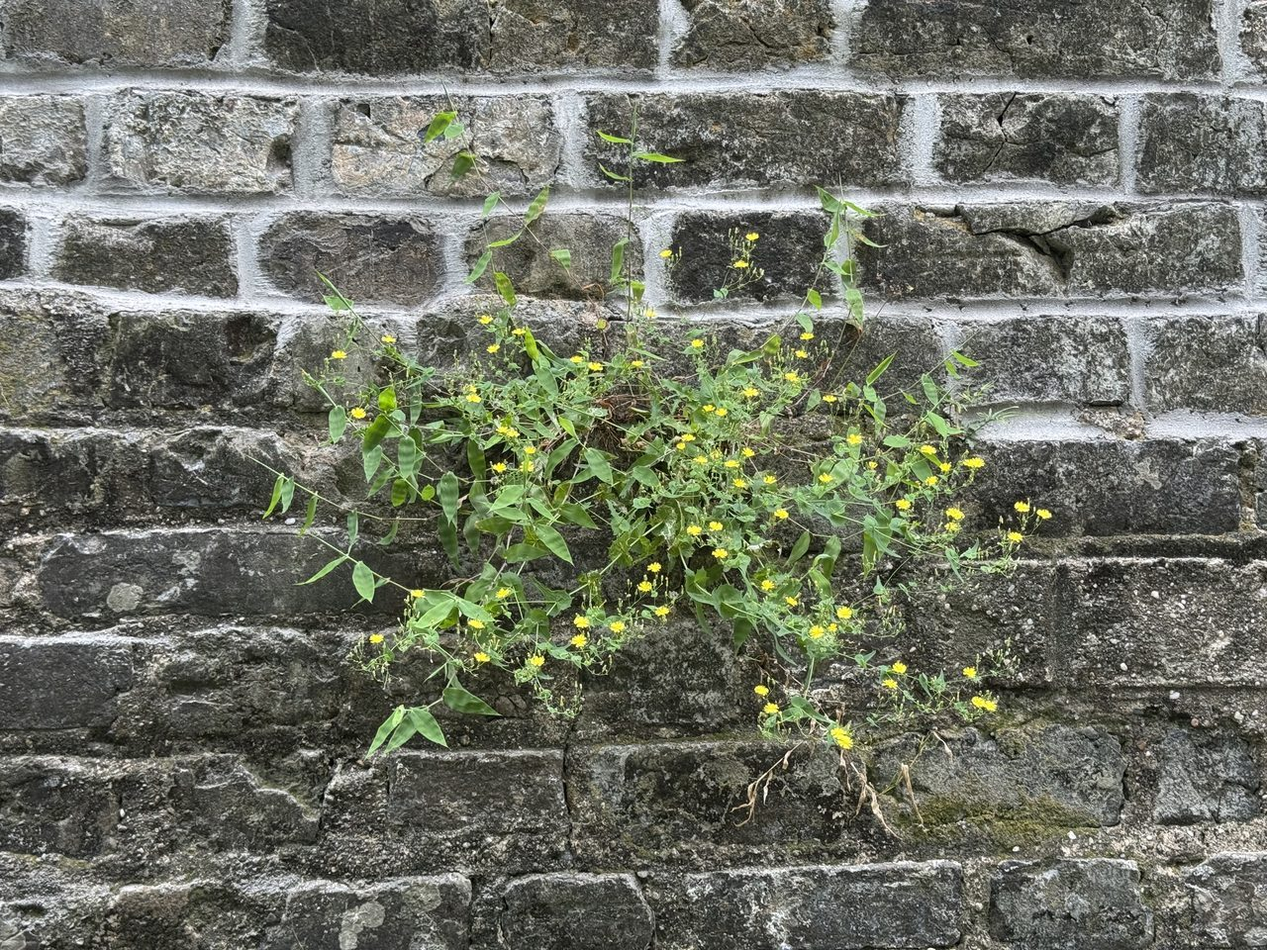vegetation: (232, 129, 1059, 790)
